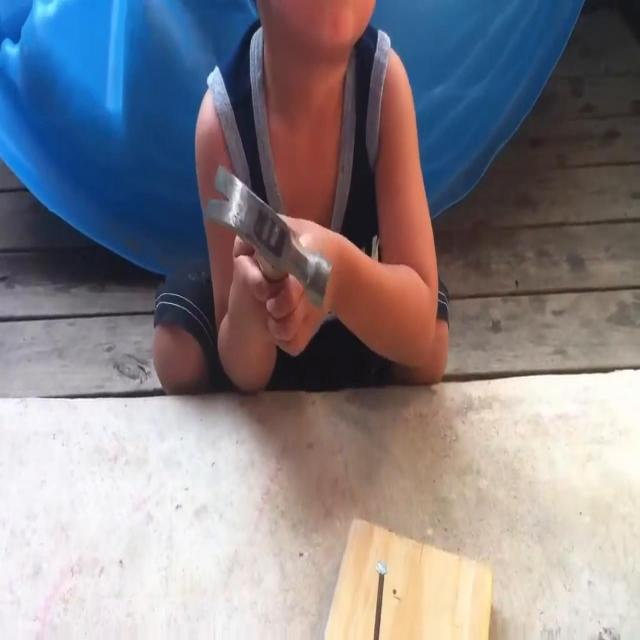hammer: (205, 163, 332, 307)
